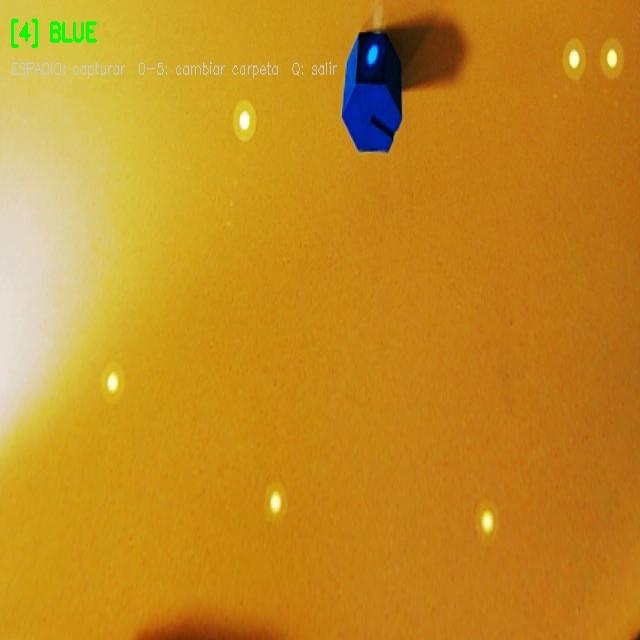blue: (339, 27, 402, 158)
